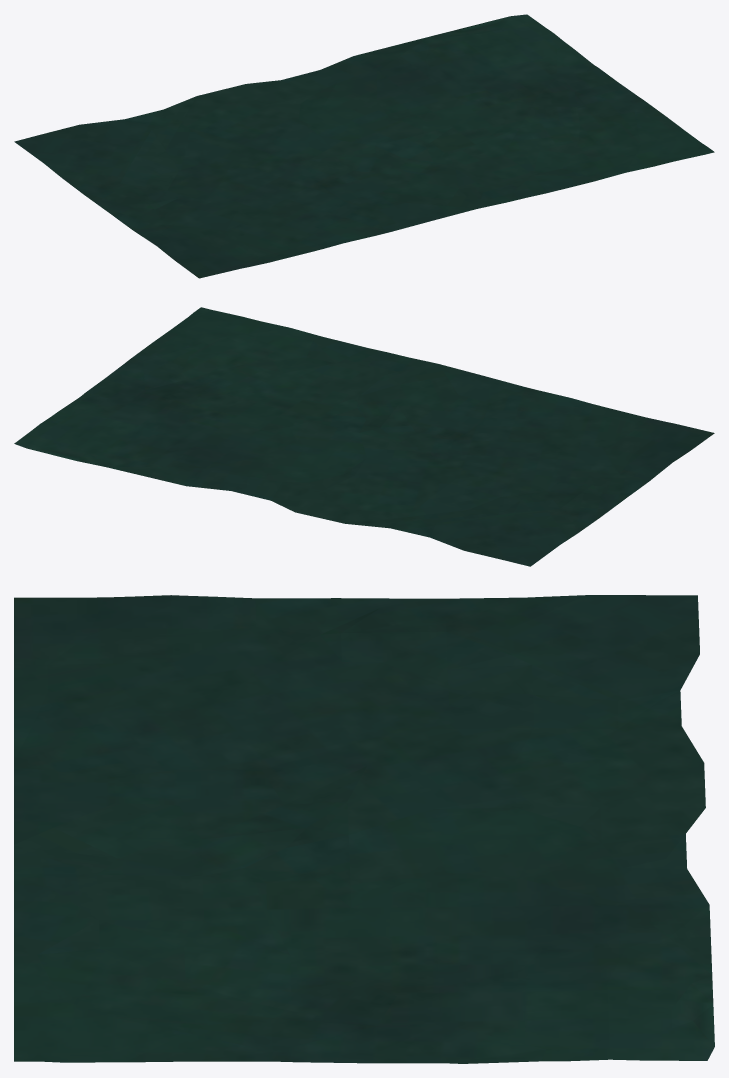
3 views of the same model, one above another, from view 1: azimuth 30°, elevation 25°; view 2: azimuth 150°, elevation 25°; view 3: azimuth 270°, elevation 25° (orthographic). The views are drawn at different scales.
Bounding box in the file's own units: 52.22 × 0.4677 × 33.28.
2 materials, 2 textured.
